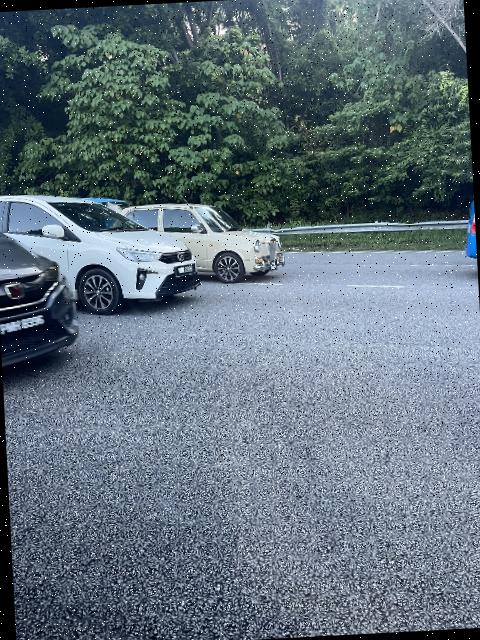License_Plate: (1, 312, 49, 343), (171, 264, 200, 281)
car: (1, 174, 202, 319), (125, 201, 279, 288), (1, 222, 82, 385)
